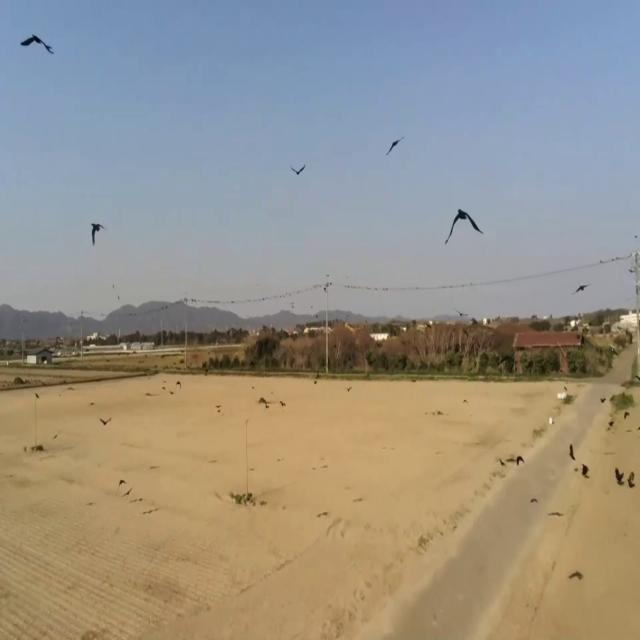bird: (446, 200, 481, 254), (21, 25, 52, 66), (386, 131, 403, 163), (91, 215, 102, 248), (290, 159, 306, 181), (614, 459, 624, 492), (512, 447, 524, 473), (574, 277, 588, 299), (258, 393, 271, 415), (99, 411, 111, 433), (568, 436, 576, 465), (324, 278, 330, 294)
